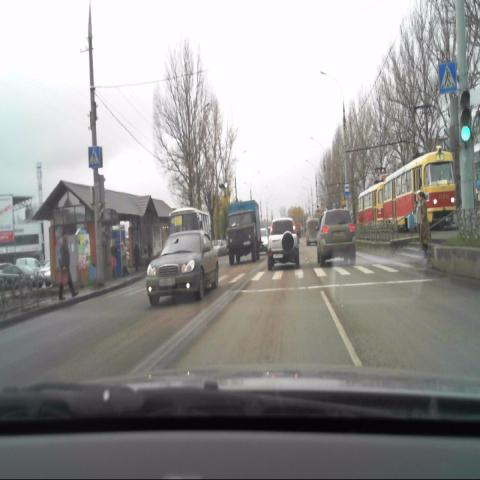5_16: (344, 182, 350, 195)
5_19_1: (439, 61, 457, 92), (88, 145, 101, 168)
